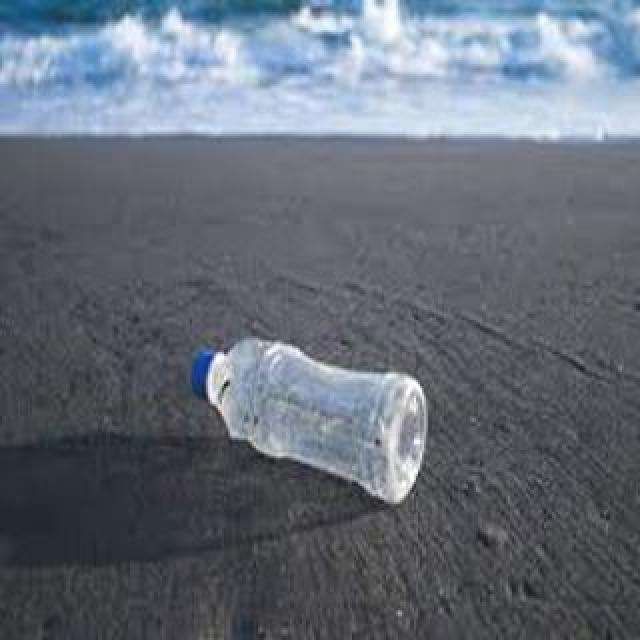Pet_Bottle: (183, 324, 439, 508)
